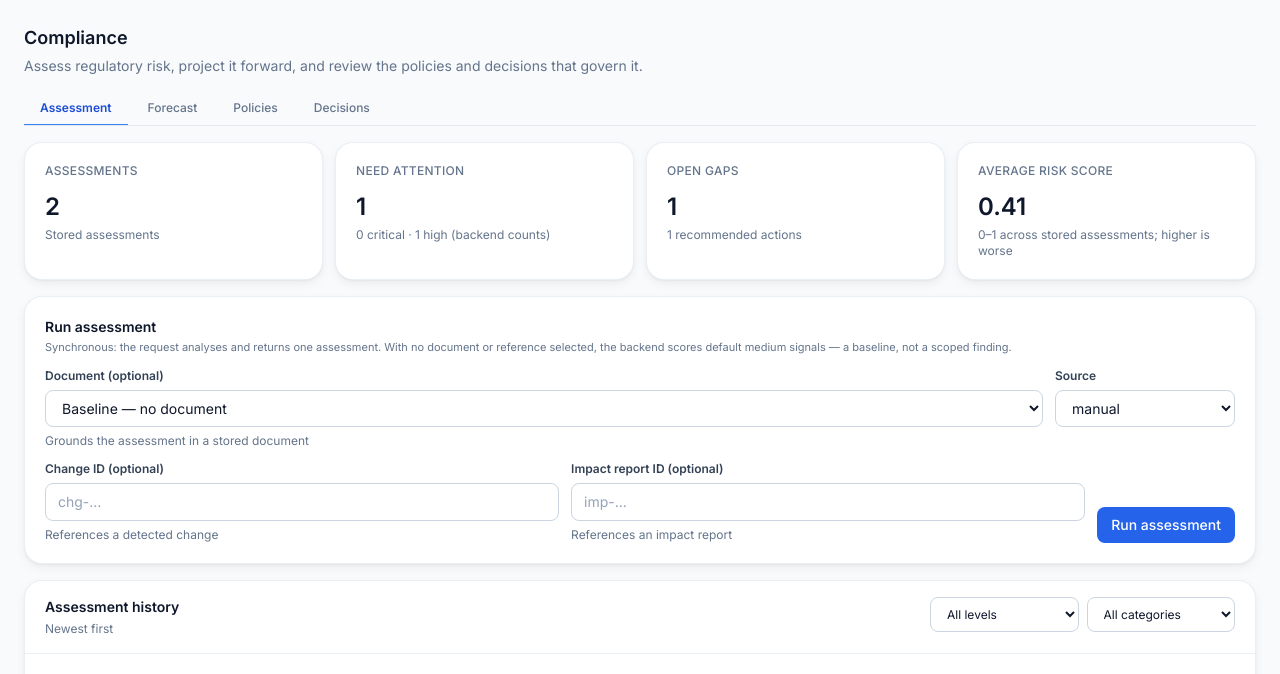
Scenario: assessment › 8+9. failure shows retryable error
Click the button "Run assessment". click: click(1166, 524)
box: [1097,506,1235,542]
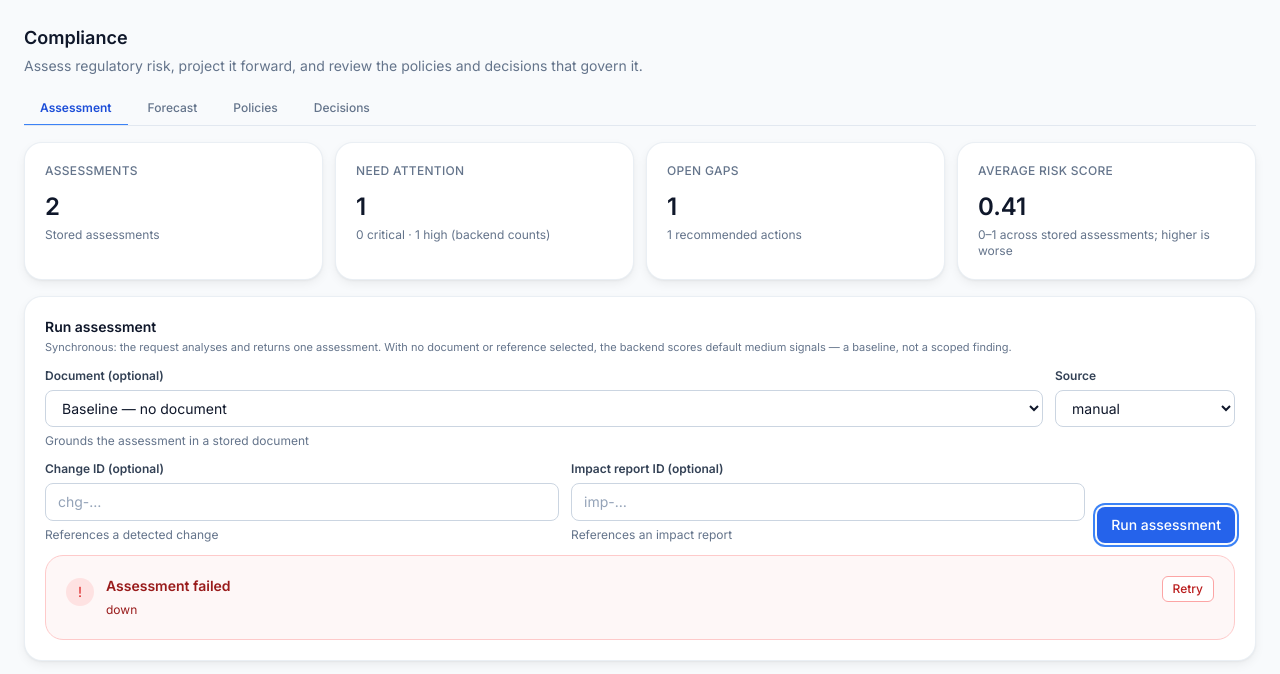
Expected: the text "Assessment failed" is shown, [106,576,231,594]
Expected: the message "! Assessment failed down Retry" is shown, [45,554,1235,640]
